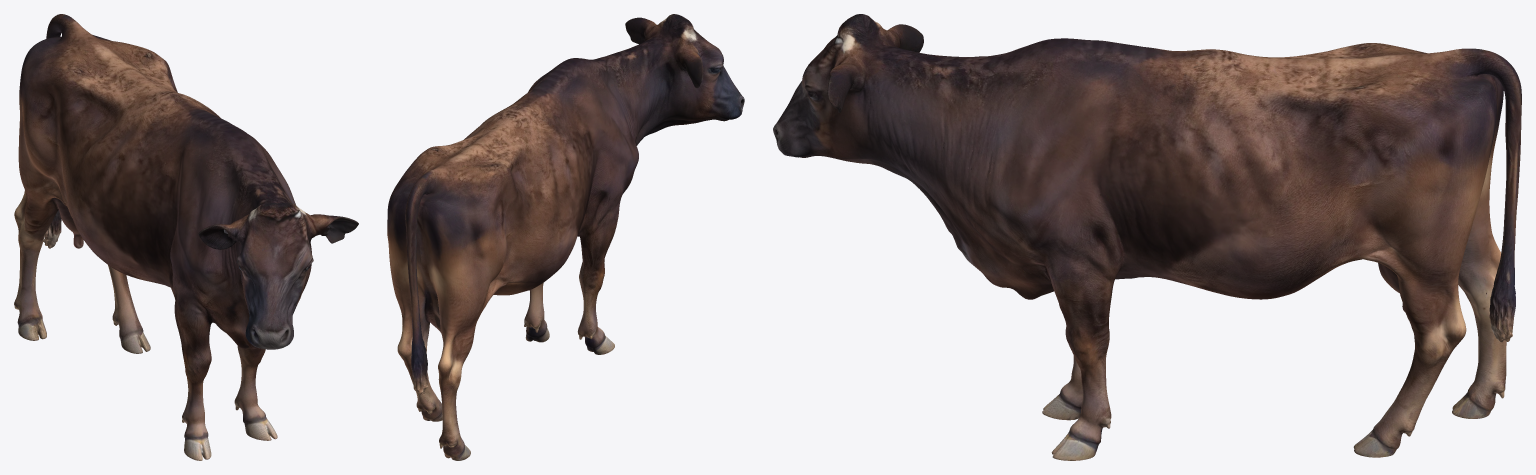
The model's file is cow.glb.
The picture shows the model from 3 angles, left to right: view 1: azimuth 30°, elevation 25°; view 2: azimuth 150°, elevation 25°; view 3: azimuth 270°, elevation 25°; orthographic projection. The views are drawn at different scales.
Parts seen in each view (by area): view 1: mesh_0; view 2: mesh_0; view 3: mesh_0.
Boxes of the visible parts, bbox=[...] form: mesh_0: bbox=[14, 14, 358, 460]; mesh_0: bbox=[387, 14, 744, 460]; mesh_0: bbox=[773, 14, 1521, 460].
Bounding box in the file's own units: 0.6075 × 1.1 × 1.9.
1 material, 1 textured.
